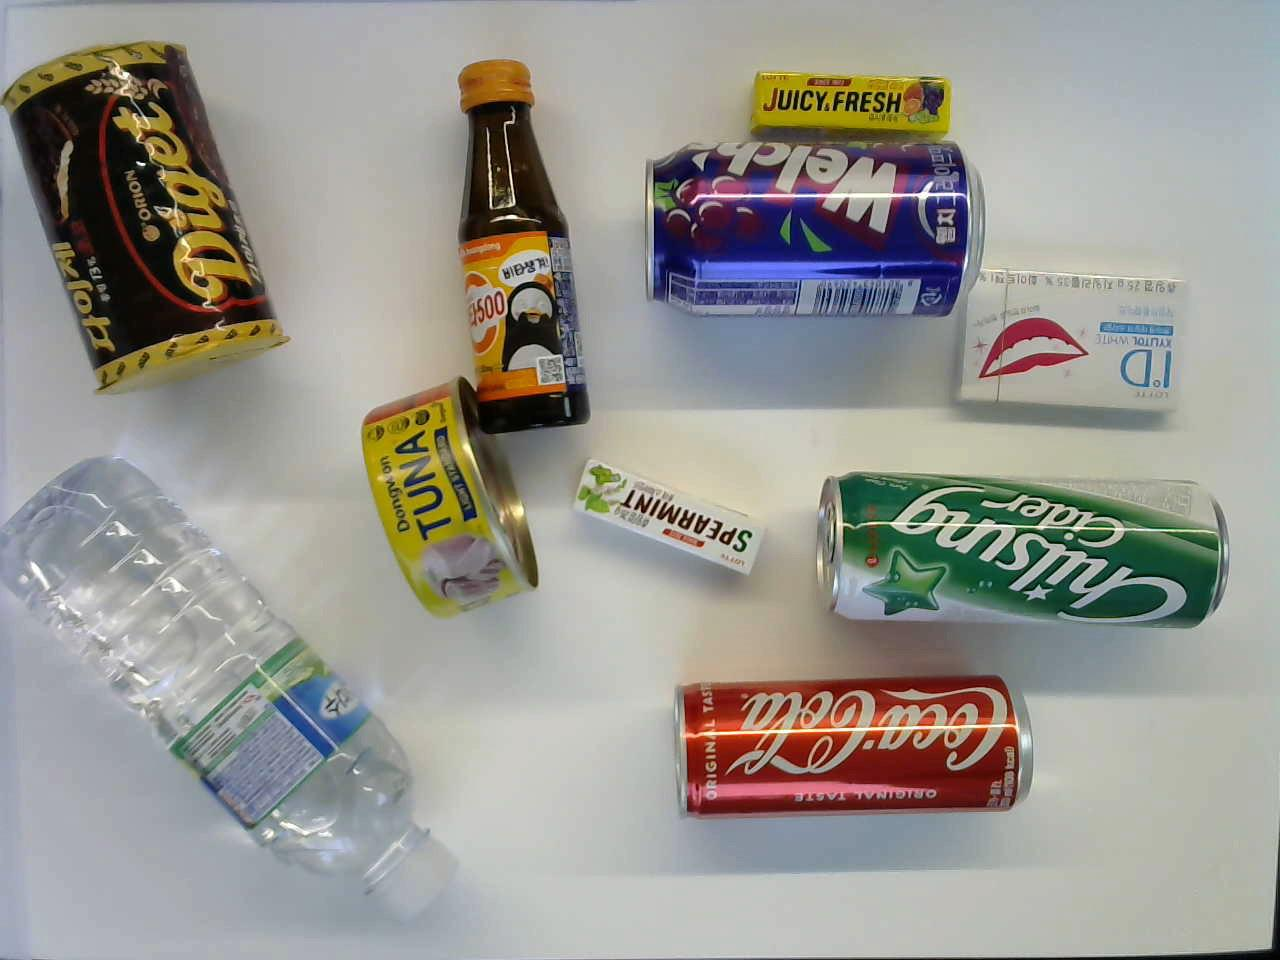ID_gum: (954, 271, 1194, 412)
cidar: (802, 465, 1238, 637)
coke: (665, 668, 1036, 815)
diget_choco: (0, 34, 294, 393)
juicyfresh: (736, 72, 953, 129)
samdasu: (0, 450, 462, 927)
spearmint: (563, 452, 772, 580)
tuna: (344, 371, 543, 627)
vita500: (449, 50, 594, 436)
welchs: (638, 137, 991, 318)
